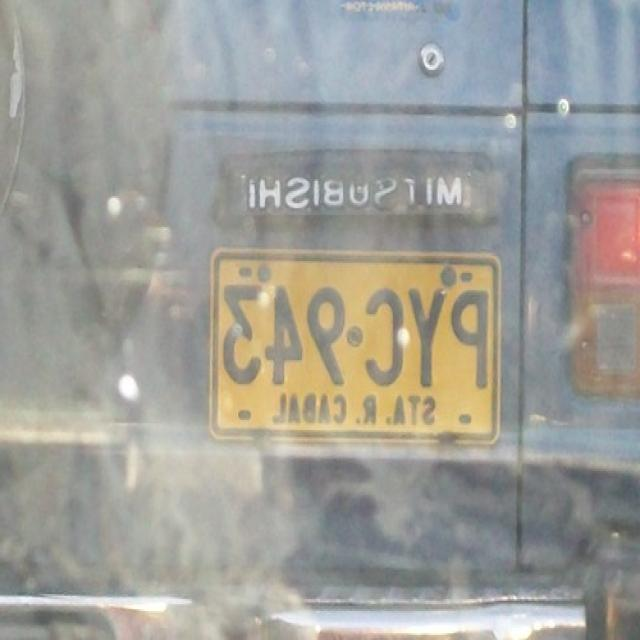placas: (215, 259, 498, 391)
